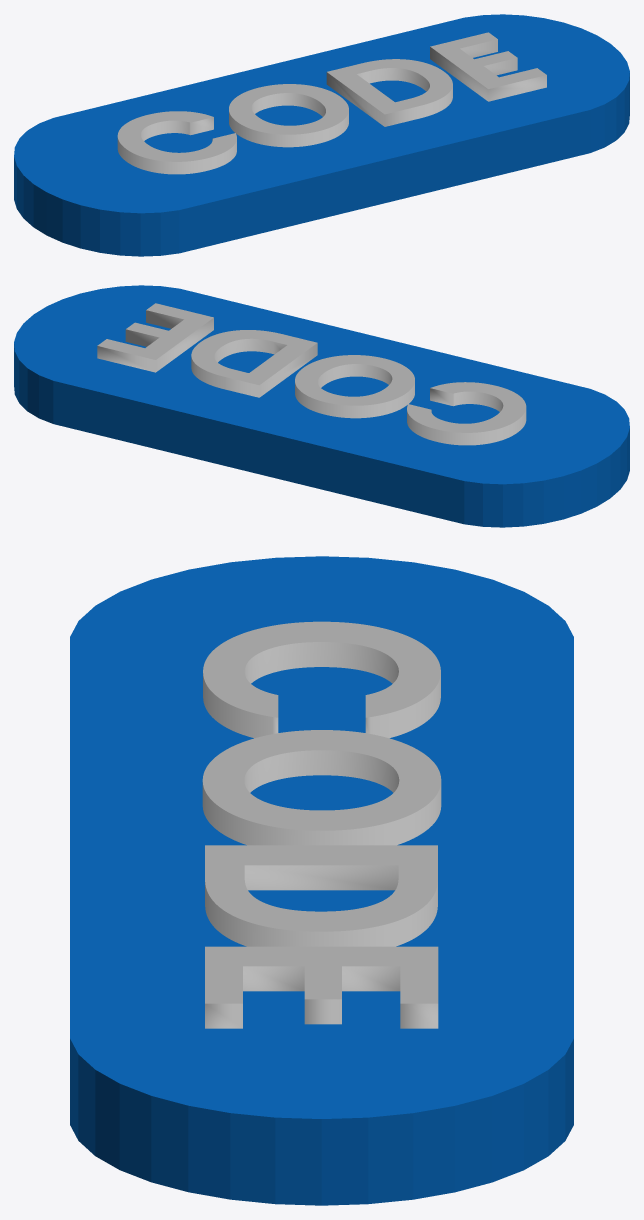
File: code_button.gltf
3 renders of one model, top to bottom at view 1: azimuth 30°, elevation 25°; view 2: azimuth 150°, elevation 25°; view 3: azimuth 270°, elevation 25°, orthographic. The views are drawn at different scales.
Visible parts, largest first — view 1: Circle; view 2: Circle; view 3: Circle.
Part boxes in pixels (x1,y1,x2,y2): Circle: (14,14,629,256); Circle: (14,285,629,527); Circle: (70,556,573,1205).
Size of the model in its own units: 0.5746 by 0.0531 by 0.2175.
